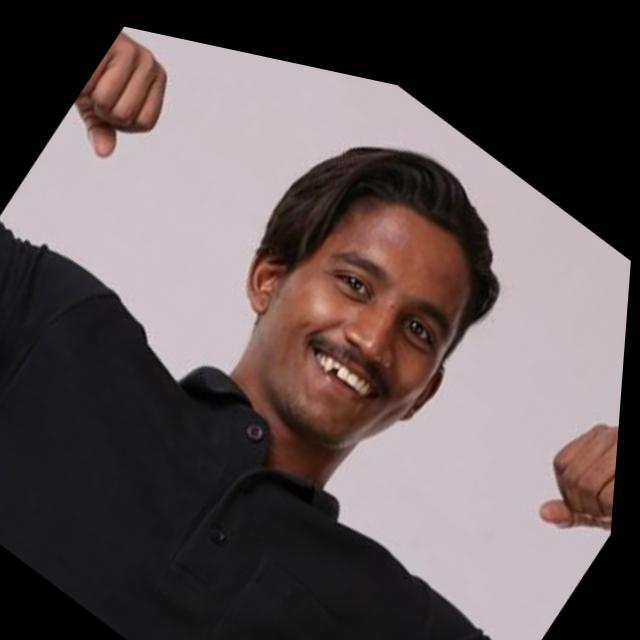Nonhelmet: (231, 140, 503, 452)
